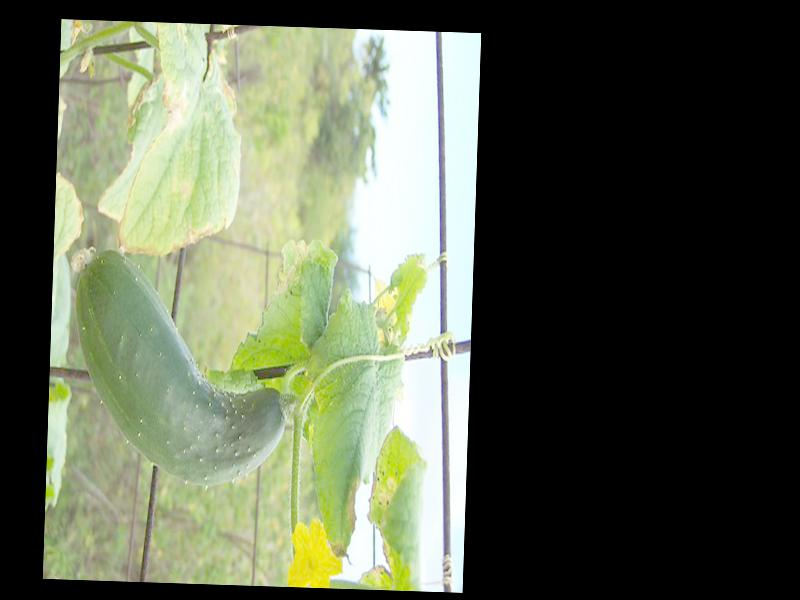Cucumber: (69, 245, 293, 485)
